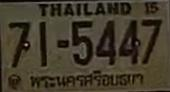1: (38, 21, 46, 66)
4: (118, 19, 140, 63), (95, 19, 115, 64)
5: (71, 20, 92, 65)
7: (8, 21, 30, 67), (141, 18, 161, 63)
AYA: (27, 69, 147, 90)
